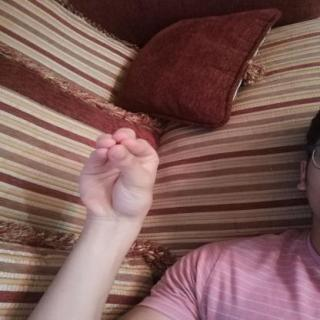HA: (60, 120, 179, 232)
